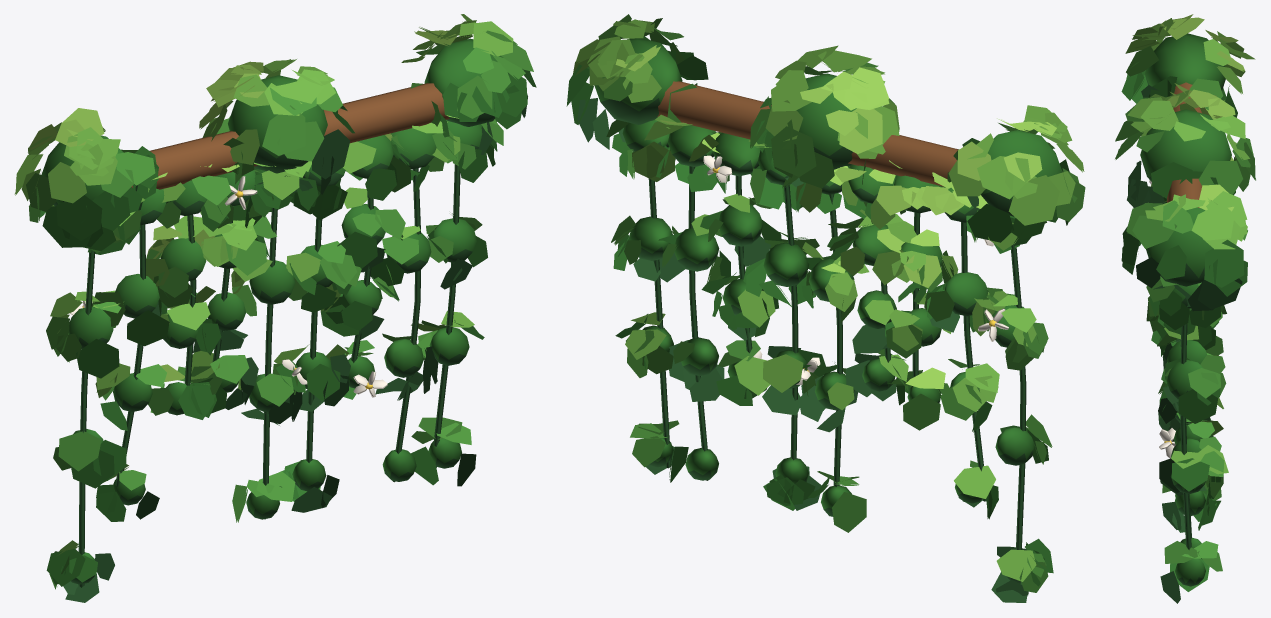
Rendered from VineCurtain.glb.
3 views of the same model, side by side, from view 1: azimuth 30°, elevation 25°; view 2: azimuth 150°, elevation 25°; view 3: azimuth 270°, elevation 25° (orthographic). The views are drawn at different scales.
Visible parts, largest first — view 1: Sway, Body; view 2: Sway, Body; view 3: Body, Sway.
Part boxes in pixels (bbox=[...]): Sway: bbox=[46, 115, 503, 602]; Body: bbox=[14, 14, 536, 397]; Sway: bbox=[606, 114, 1053, 602]; Body: bbox=[566, 14, 1085, 384]; Body: bbox=[1115, 14, 1255, 458]; Sway: bbox=[1146, 109, 1233, 603].
Size of the model in its own units: 4.98 by 4.67 by 1.34.
2 materials, 2 textured.
